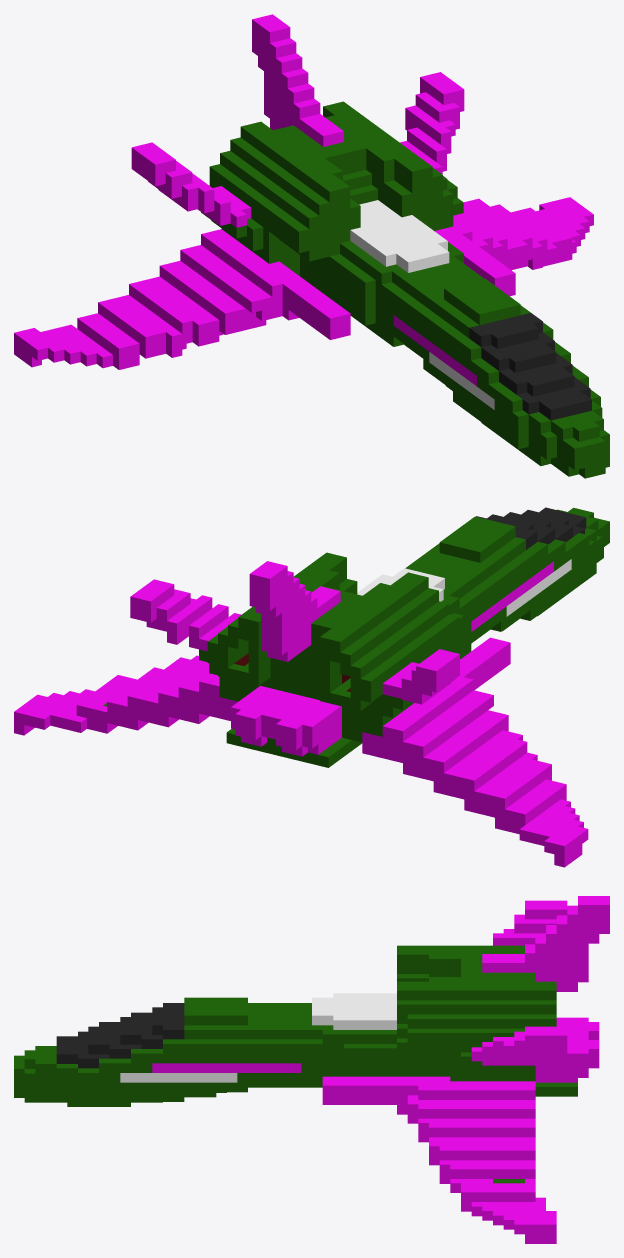
Rendered from shipALIEN.FBX.
3 renders of one model, top to bottom at view 1: azimuth 30°, elevation 25°; view 2: azimuth 150°, elevation 25°; view 3: azimuth 270°, elevation 25°, orthographic. The views are drawn at different scales.
Visible parts, largest first — view 1: default; view 2: default; view 3: default.
Part boxes in pixels (x1=…): default: x1=14, y1=14, x2=609, y2=478; default: x1=14, y1=507, x2=609, y2=867; default: x1=14, y1=896, x2=609, y2=1243.
Bounding box in the file's own units: 54 × 56 × 23.
Materials: 1 (1 with a texture image).
